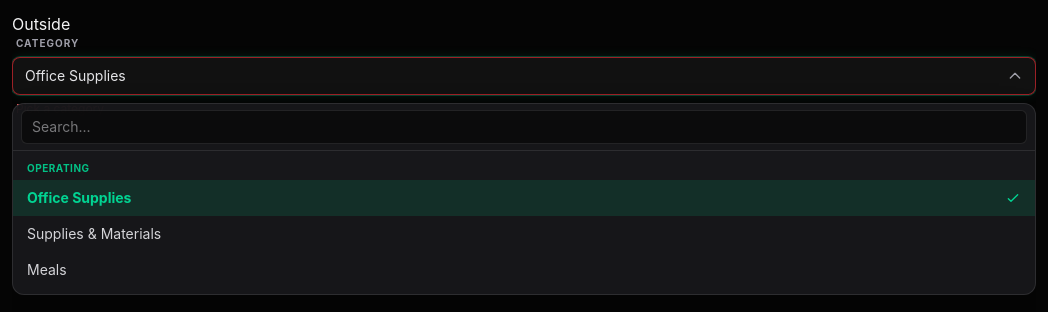
Test: Select › supports optgroups, search filtering, mouse selection, outside click, and full keyboard navigation
Earlier steps of the test are not shown.
Later steps or results of the test are not shown.
Press ArrowDown in the element "Category", box [12,36,1036,117]
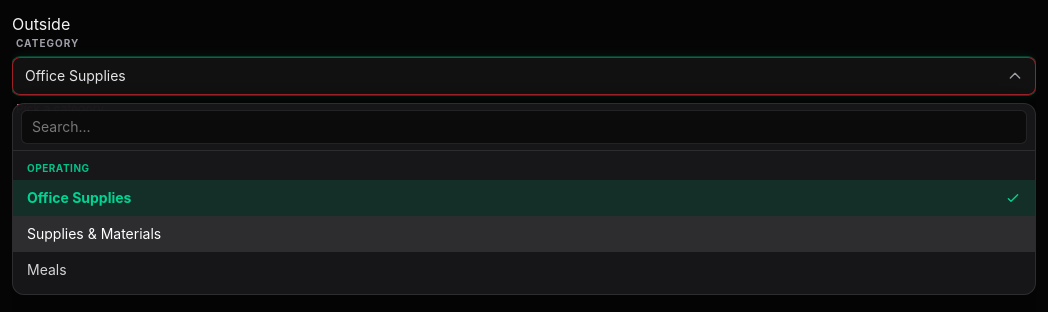
Press Enter in the element "Category", box [12,36,1036,117]
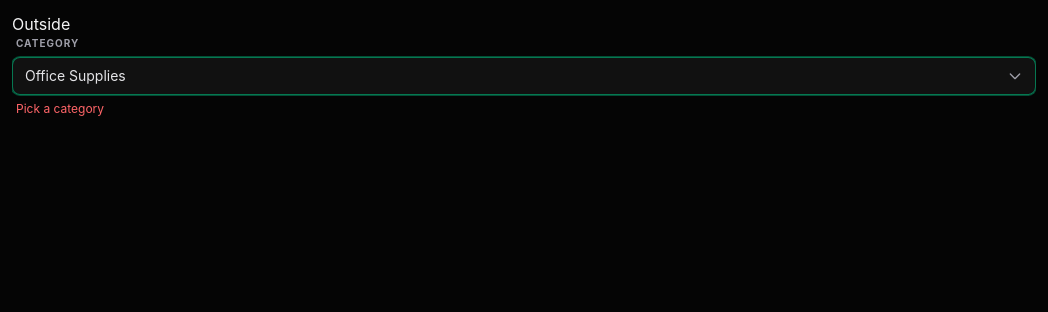
Check: the list is gone
Click the button named "Category": (75, 76) [12,57,1036,95]
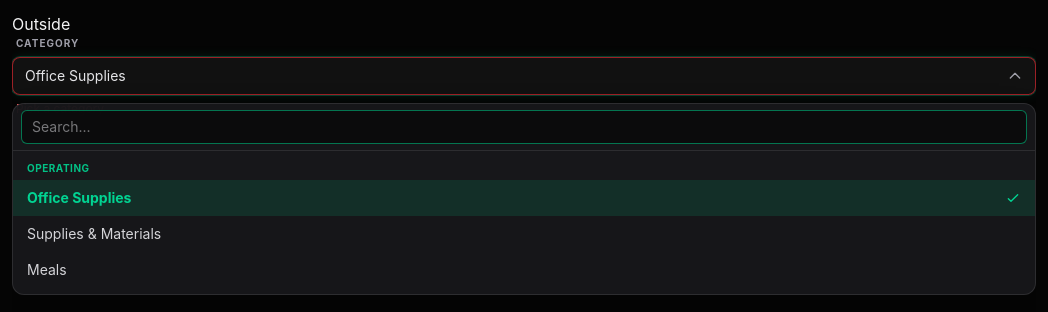
In the field with placeholder "Search...": (524, 127) [21,110,1027,144], type "zzz-nomatch"
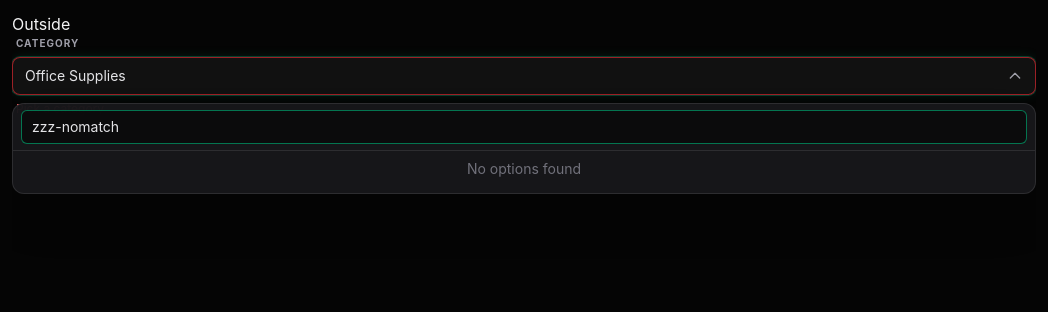
Check: the text "No options found" is shown, box [467,160,581,177]
Replace the text in the field with placeholder "Search..." with "Meals": (524, 127) [21,110,1027,144]
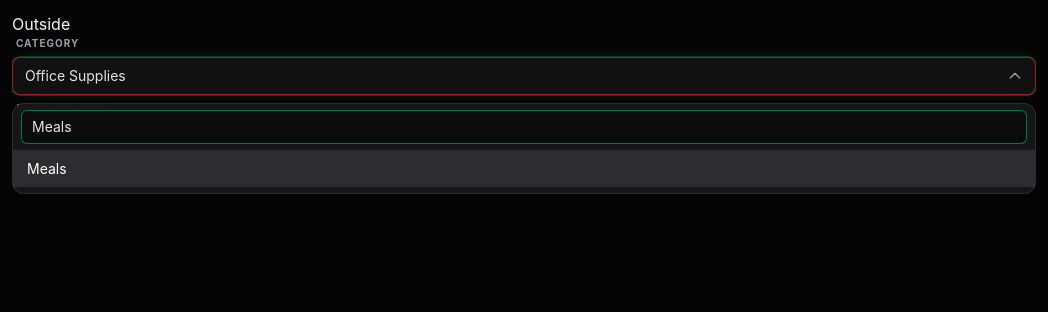
Check: the number of options is 1, box [13,151,1035,187]
Press Escape in the element "Category", box [12,36,1036,117]
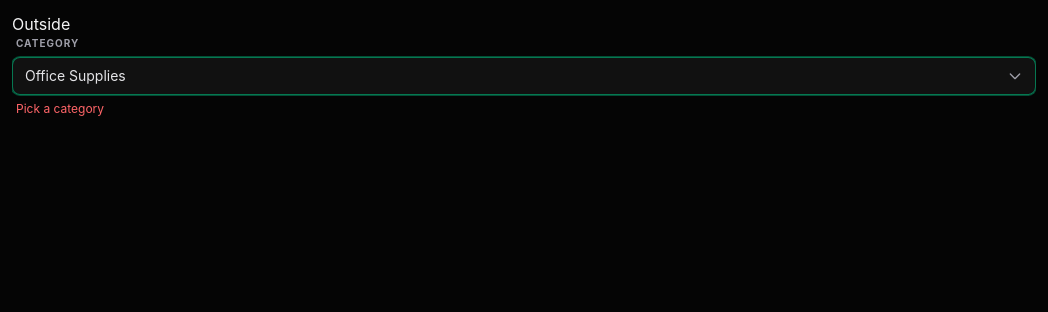
Check: the list is gone
